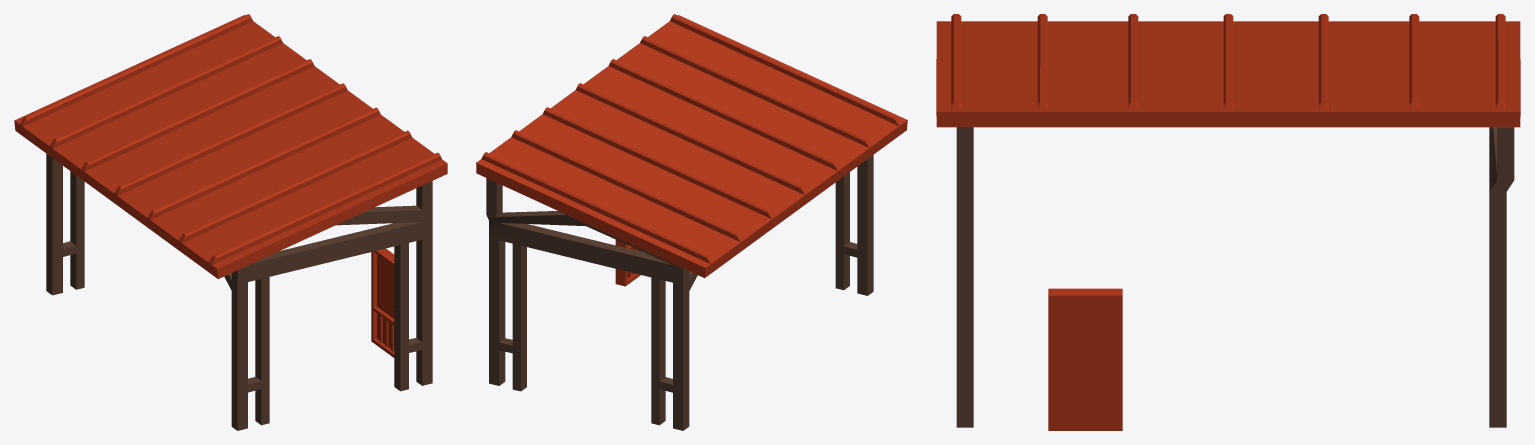
File: Props_Appenti.fbx
3 renders of one model, left to right at view 1: azimuth 30°, elevation 25°; view 2: azimuth 150°, elevation 25°; view 3: azimuth 270°, elevation 25°, orthographic. The views are drawn at different scales.
Parts seen in each view (by area): view 1: pPlane30; view 2: pPlane30; view 3: pPlane30.
Part boxes in pixels (x1=…): pPlane30: x1=14, y1=14, x2=447, y2=430; pPlane30: x1=476, y1=14, x2=907, y2=430; pPlane30: x1=936, y1=14, x2=1520, y2=430.
Bounding box in the file's own units: 50.34 × 47.83 × 76.81.
